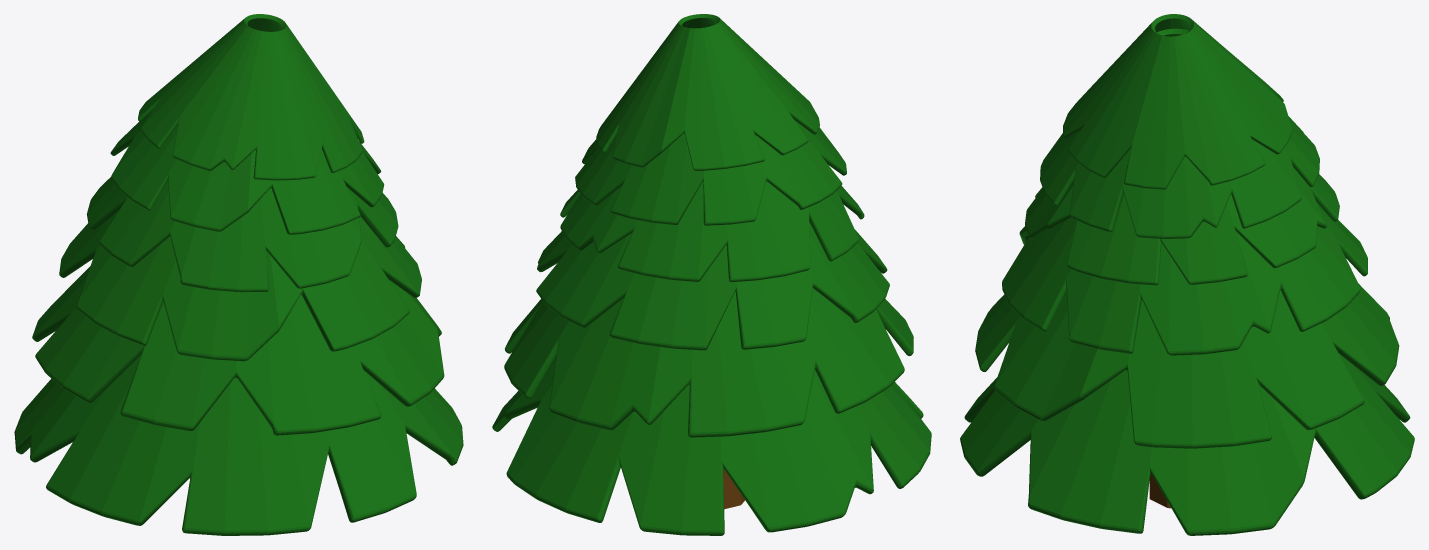
File: LowPolySpruce2.fbx
The picture shows the model from 3 angles, left to right: view 1: azimuth 30°, elevation 25°; view 2: azimuth 150°, elevation 25°; view 3: azimuth 270°, elevation 25°; orthographic projection. The views are drawn at different scales.
Parts seen in each view (by area): view 1: Circle, Circle.001, Circle.002, Circle.005, Circle.003, Circle.004; view 2: Circle, Circle.001, Circle.002, Circle.005, Circle.003, Circle.004; view 3: Circle, Circle.001, Circle.002, Circle.005, Circle.004, Circle.003.
Part boxes in pixels (x1,y1,x2,y2): Circle: (14, 354, 463, 535); Circle.001: (32, 266, 444, 435); Circle.002: (59, 210, 421, 361); Circle.005: (138, 14, 364, 180); Circle.003: (87, 177, 398, 292); Circle.004: (110, 112, 384, 234); Circle: (492, 357, 931, 535); Circle.001: (504, 288, 913, 437); Circle.002: (536, 222, 889, 350); Circle.005: (596, 14, 819, 170); Circle.003: (560, 181, 864, 282); Circle.004: (575, 120, 846, 225); Circle: (960, 354, 1414, 535); Circle.001: (975, 283, 1399, 448); Circle.002: (1002, 203, 1367, 355); Circle.005: (1063, 14, 1292, 189); Circle.004: (1040, 28, 1319, 238); Circle.003: (1025, 167, 1339, 285).
Bounding box in the file's own units: 205 × 238 × 205.
